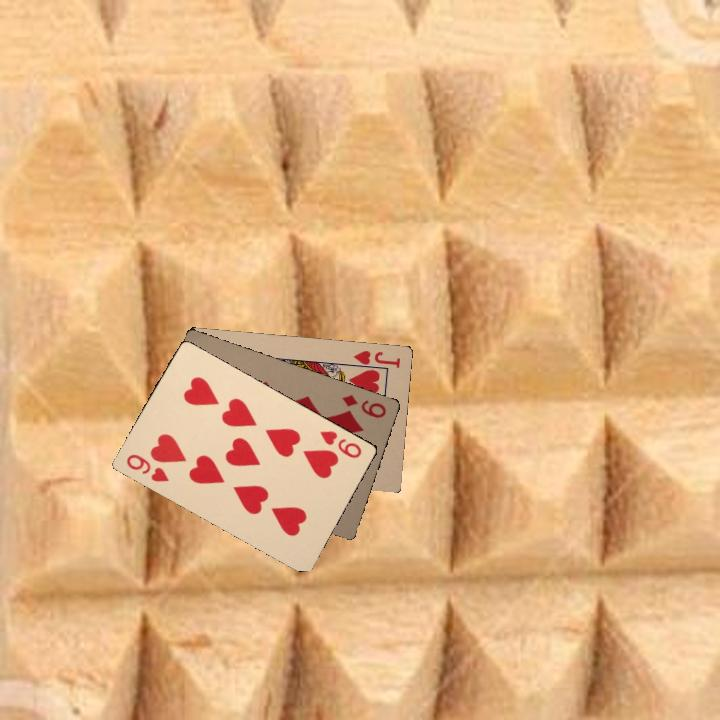9d: (338, 390, 389, 421)
9h: (122, 450, 171, 485), (316, 426, 364, 461)
Jh: (349, 347, 403, 373)
